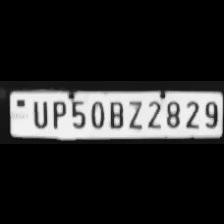0: (86, 97, 106, 129)
2: (142, 97, 162, 128), (182, 97, 200, 128)
5: (68, 97, 86, 129)
8: (162, 98, 180, 128)
9: (200, 98, 220, 128)
B: (106, 97, 124, 129)
P: (48, 97, 66, 129)
U: (29, 96, 49, 128)
Z: (124, 97, 144, 129)
